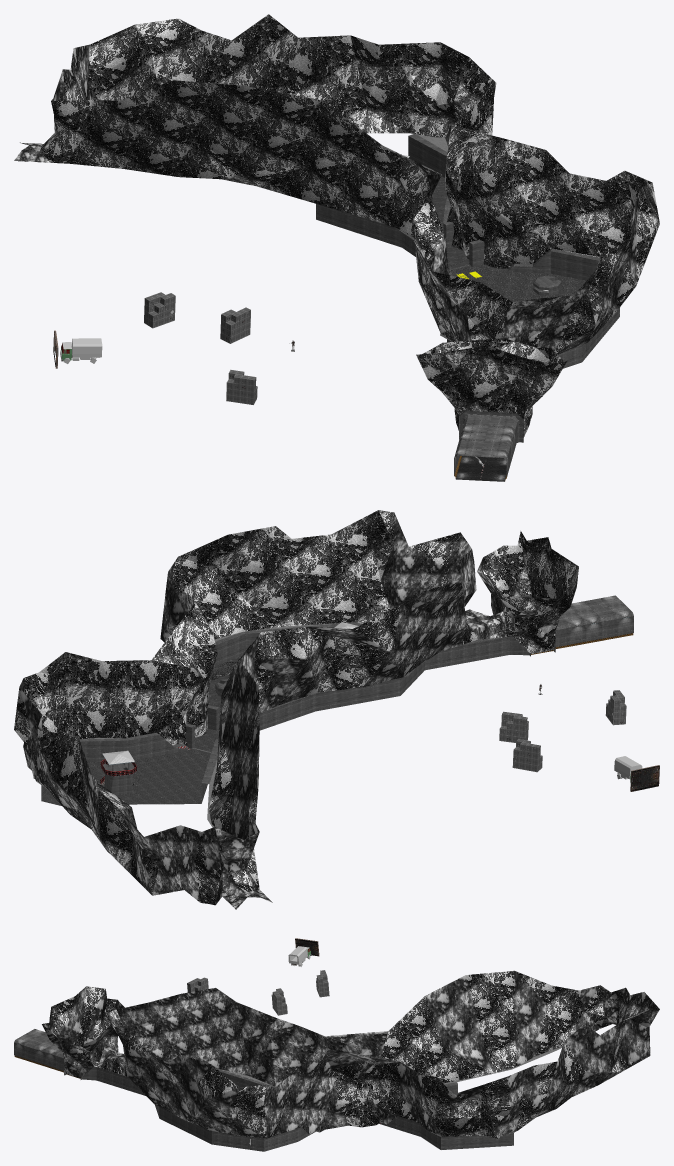
The model's file is dam5.obj.
3 views of the same model, one above another, from view 1: azimuth 30°, elevation 25°; view 2: azimuth 150°, elevation 25°; view 3: azimuth 270°, elevation 25° (orthographic). The views are drawn at different scales.
Visible parts, largest first — view 1: 003_250FD62A_c.bmp, 000_250FD62A_c.bmp, 019_250FD62A_c.bmp, 093_25813CA2_c.bmp, 119_25813CA2_c.bmp, 084_58933A3F_c.bmp, 017_25813CA2_c.bmp, 073_48CC5B25_c.bmp, 011_5CCB531F_c.bmp, 026_48CC5B25_c.bmp, 032_48CC5B25_c.bmp; view 2: 000_250FD62A_c.bmp, 003_250FD62A_c.bmp, 019_250FD62A_c.bmp, 112_58933A3F_c.bmp, 093_25813CA2_c.bmp, 119_25813CA2_c.bmp, 025_25813CA2_c.bmp, 011_5CCB531F_c.bmp, 117_255D277A_c.bmp, 073_48CC5B25_c.bmp, 032_48CC5B25_c.bmp, 005_25813CA2_c.bmp (+4 smaller); view 3: 003_250FD62A_c.bmp, 000_250FD62A_c.bmp, 019_250FD62A_c.bmp, 093_25813CA2_c.bmp, 119_25813CA2_c.bmp, 025_25813CA2_c.bmp, 011_5CCB531F_c.bmp, 005_25813CA2_c.bmp, 004_5CCB531F_c.bmp.
Boxes of the visible parts, bbox=[...] form: 003_250FD62A_c.bmp: bbox=[14, 14, 509, 227]; 000_250FD62A_c.bmp: bbox=[395, 140, 659, 354]; 019_250FD62A_c.bmp: bbox=[416, 338, 567, 437]; 093_25813CA2_c.bmp: bbox=[447, 241, 619, 368]; 119_25813CA2_c.bmp: bbox=[316, 136, 446, 253]; 084_58933A3F_c.bmp: bbox=[450, 264, 586, 302]; 017_25813CA2_c.bmp: bbox=[459, 410, 523, 446]; 073_48CC5B25_c.bmp: bbox=[144, 292, 175, 328]; 011_5CCB531F_c.bmp: bbox=[459, 424, 515, 458]; 026_48CC5B25_c.bmp: bbox=[226, 369, 257, 404]; 032_48CC5B25_c.bmp: bbox=[220, 307, 250, 343]; 000_250FD62A_c.bmp: bbox=[160, 510, 506, 737]; 003_250FD62A_c.bmp: bbox=[14, 602, 272, 909]; 019_250FD62A_c.bmp: bbox=[477, 531, 578, 653]; 112_58933A3F_c.bmp: bbox=[41, 748, 210, 805]; 093_25813CA2_c.bmp: bbox=[214, 627, 424, 730]; 119_25813CA2_c.bmp: bbox=[41, 726, 207, 802]; 025_25813CA2_c.bmp: bbox=[425, 636, 509, 670]; 011_5CCB531F_c.bmp: bbox=[561, 601, 601, 641]; 117_255D277A_c.bmp: bbox=[34, 732, 218, 784]; 073_48CC5B25_c.bmp: bbox=[512, 739, 542, 772]; 032_48CC5B25_c.bmp: bbox=[499, 711, 528, 742]; 005_25813CA2_c.bmp: bbox=[584, 598, 633, 638]; 003_250FD62A_c.bmp: bbox=[325, 970, 659, 1138]; 000_250FD62A_c.bmp: bbox=[97, 988, 373, 1138]; 019_250FD62A_c.bmp: bbox=[42, 986, 124, 1078]; 093_25813CA2_c.bmp: bbox=[154, 1072, 315, 1151]; 119_25813CA2_c.bmp: bbox=[379, 1085, 513, 1149]; 025_25813CA2_c.bmp: bbox=[96, 1067, 145, 1095]; 011_5CCB531F_c.bmp: bbox=[35, 1039, 60, 1065]; 005_25813CA2_c.bmp: bbox=[14, 1032, 48, 1061]; 004_5CCB531F_c.bmp: bbox=[14, 1029, 44, 1055].
Bounding box in the file's own units: 2.22 × 0.5735 × 3.17.
